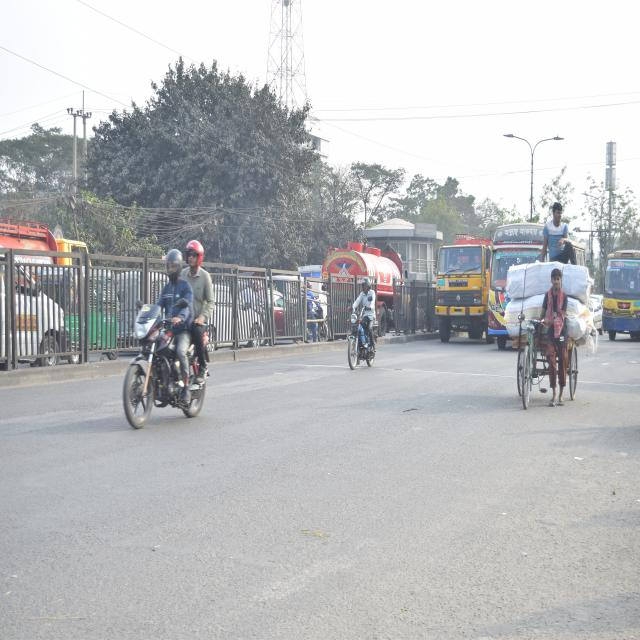motorbike: (107, 290, 220, 447), (332, 294, 378, 375)
pickup-van: (598, 253, 640, 339)
truck: (428, 234, 491, 340)
